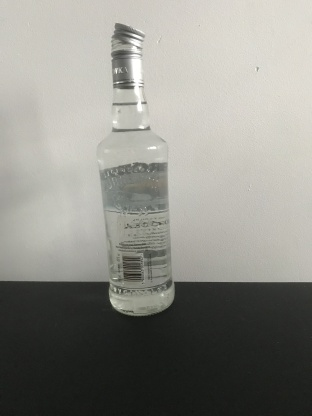nakretka: (109, 20, 146, 89)
